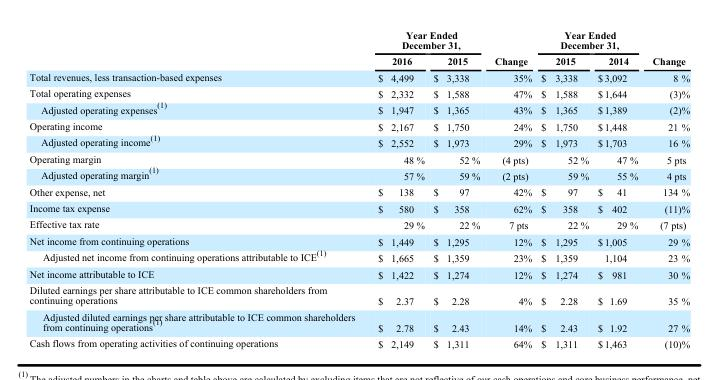table: (28, 28, 689, 349)
table column: (28, 28, 365, 349), (365, 28, 428, 349), (428, 28, 486, 349), (535, 28, 592, 349), (592, 28, 644, 349), (486, 28, 535, 349), (644, 28, 689, 349)
table column header: (28, 28, 689, 68)
table row: (28, 281, 689, 308), (28, 308, 689, 334), (28, 28, 689, 52), (28, 99, 689, 117), (28, 132, 689, 150), (28, 165, 689, 183), (28, 247, 689, 265), (28, 199, 689, 216), (28, 52, 689, 68), (28, 68, 689, 84), (28, 183, 689, 199), (28, 216, 689, 232), (28, 265, 689, 281), (28, 84, 689, 99), (28, 117, 689, 132), (28, 150, 689, 165), (28, 232, 689, 247), (28, 334, 689, 349)
table spanning cell: (365, 28, 486, 52), (535, 28, 644, 52), (486, 28, 535, 68), (644, 28, 689, 68)
